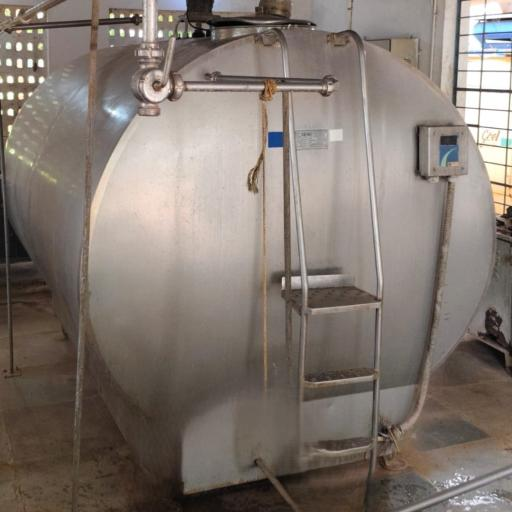silo: (5, 12, 500, 493)
